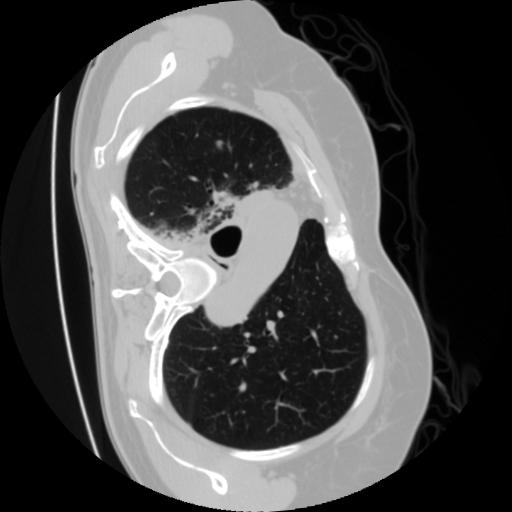nodule: (214, 136, 229, 151)
